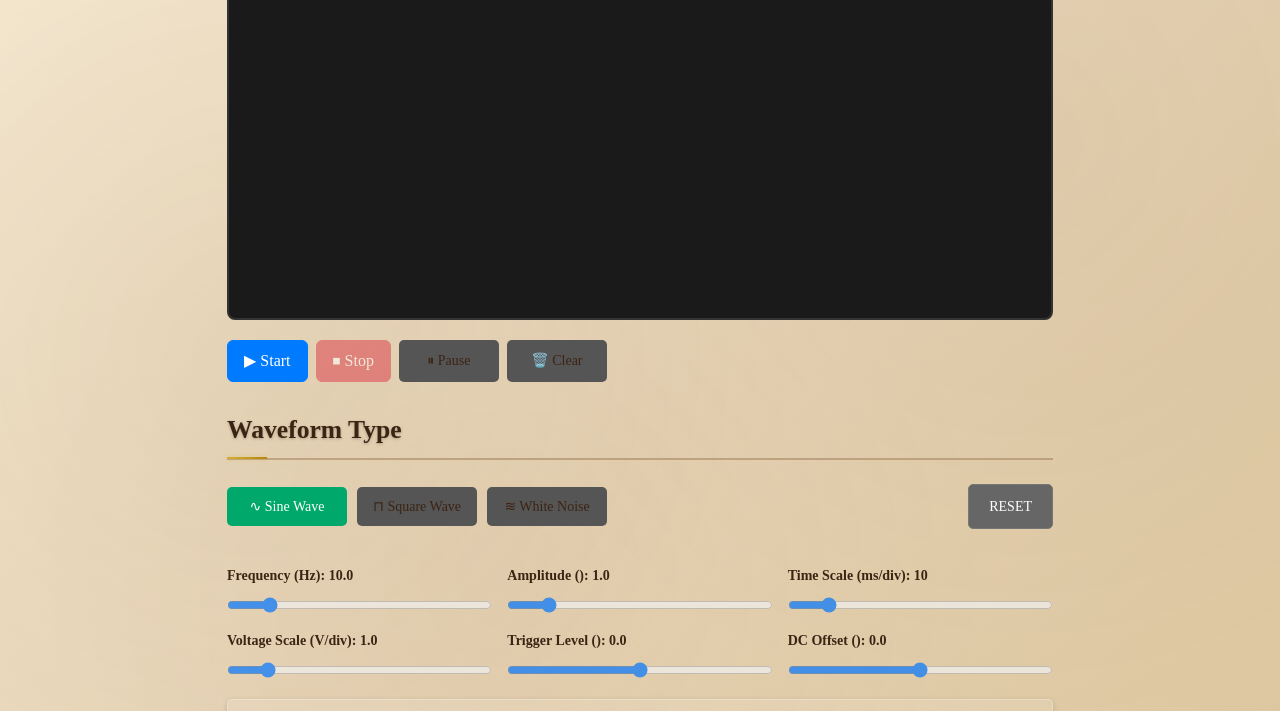
DemoTab Component › Button States › should disable Start button when streaming
(page scrolled)
Click the button "▶ Start". click: [267, 361]
box: [227, 340, 308, 382]
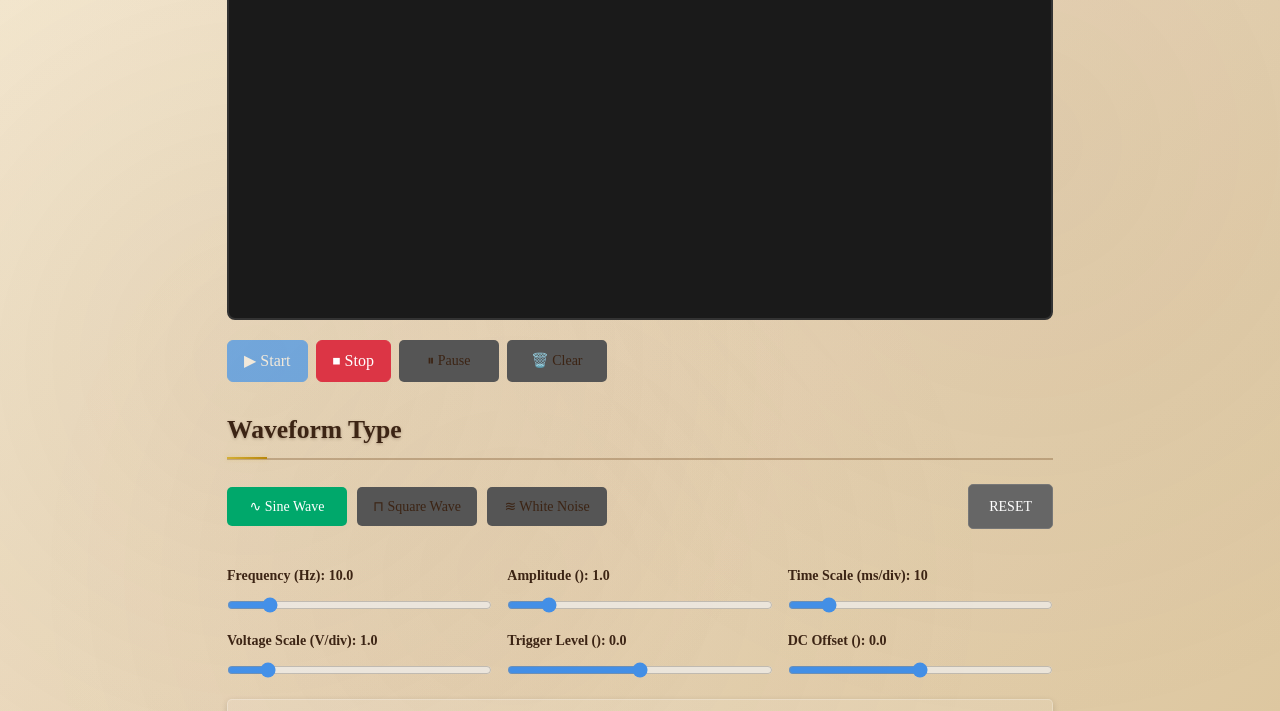
Expected: the button "▶ Start" is disabled, [227, 340, 308, 382]
